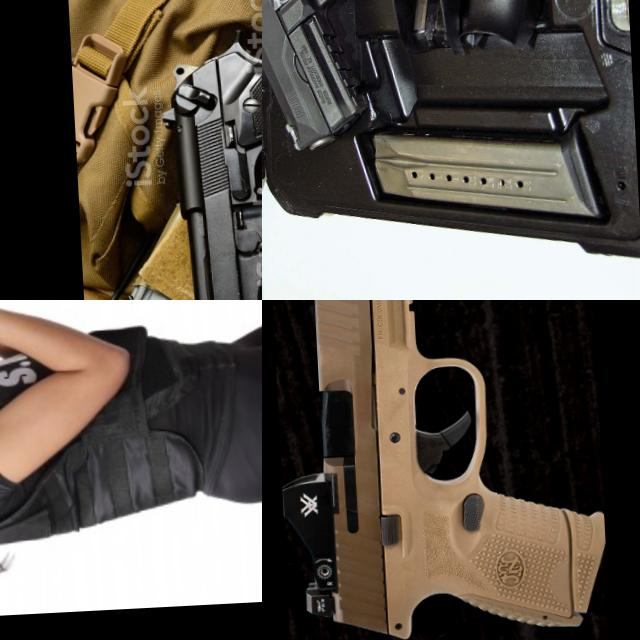handgun: (267, 300, 610, 640), (262, 0, 442, 220), (154, 0, 262, 300), (0, 300, 69, 374)
